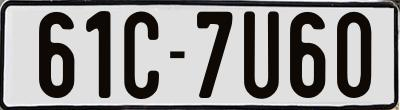0: (335, 9, 374, 101)
1: (83, 10, 111, 103)
6: (36, 12, 75, 102), (288, 11, 325, 101)
7: (194, 12, 234, 101)
C: (121, 8, 159, 101)
U: (242, 9, 279, 102)
